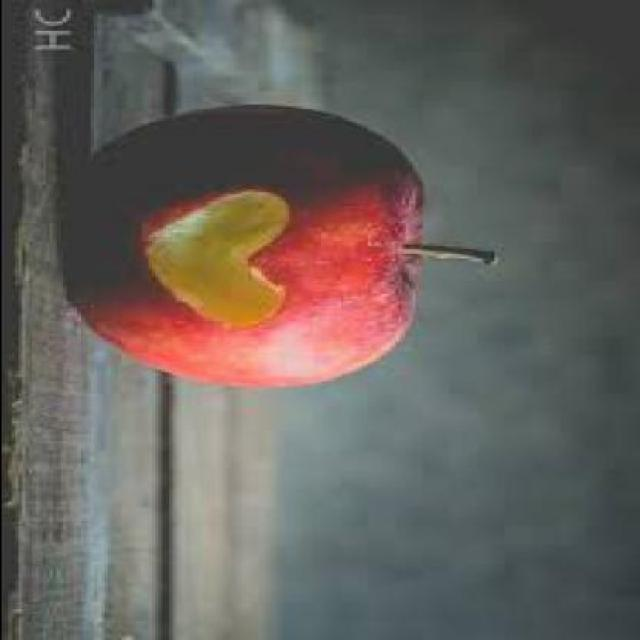BIODEGRADABLE: (62, 106, 500, 389)
